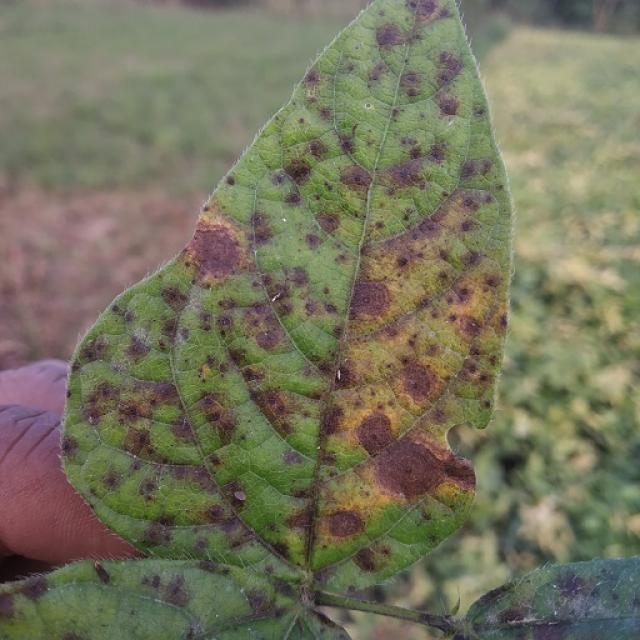Anthracnose: (311, 424, 481, 579), (349, 203, 487, 339), (332, 6, 464, 132), (74, 351, 208, 467), (344, 302, 465, 407), (171, 330, 247, 429), (370, 437, 462, 504), (297, 155, 368, 233), (132, 462, 221, 523), (246, 377, 324, 446), (368, 102, 446, 171), (190, 220, 248, 277), (185, 395, 242, 449), (196, 220, 242, 283), (374, 157, 440, 197), (317, 370, 354, 439), (354, 412, 398, 457), (347, 281, 393, 322), (439, 454, 478, 495), (550, 571, 594, 607), (325, 510, 365, 540), (121, 424, 153, 457), (158, 575, 187, 605), (253, 325, 284, 352), (376, 22, 407, 48), (284, 158, 313, 184), (332, 363, 360, 388), (500, 604, 533, 625), (0, 591, 25, 618), (412, 0, 441, 23), (23, 576, 49, 599), (435, 94, 460, 115), (281, 447, 306, 466), (93, 562, 110, 583), (121, 403, 139, 420), (207, 504, 226, 520), (198, 362, 213, 381), (149, 574, 163, 589), (60, 439, 73, 455), (396, 256, 409, 267), (226, 176, 236, 185), (611, 591, 620, 601), (65, 389, 73, 399)
Blackgram: (53, 0, 511, 622)
